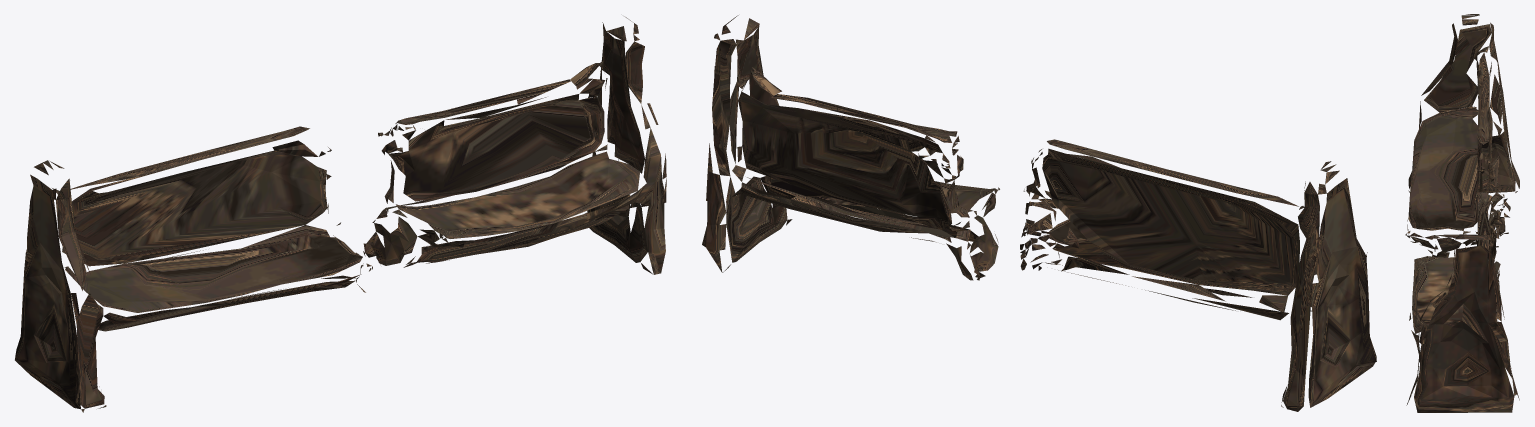
The model's file is church-pew-broken-pixelated.glb.
3 renders of one model, left to right at view 1: azimuth 30°, elevation 25°; view 2: azimuth 150°, elevation 25°; view 3: azimuth 270°, elevation 25°, orthographic. The views are drawn at different scales.
Visible parts, largest first — view 1: mesh; view 2: mesh; view 3: mesh.
Part boxes in pixels (x1=…): mesh: x1=15, y1=16, x2=666, y2=412; mesh: x1=702, y1=15, x2=1376, y2=411; mesh: x1=1405, y1=14, x2=1519, y2=412.
Size of the model in its own units: 2 by 0.7118 by 0.425.
1 material, 1 textured.
